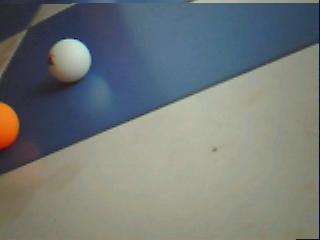oball: (0, 100, 20, 152)
